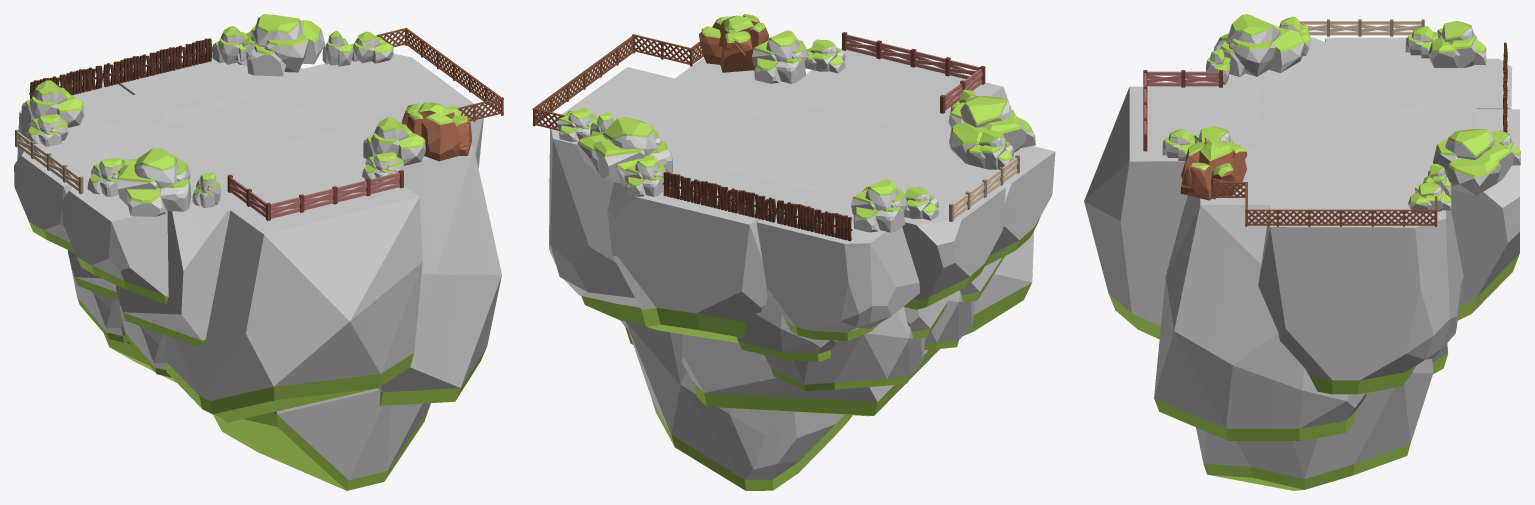
Rendered from Field.glb.
The picture shows the model from 3 angles, left to right: view 1: azimuth 30°, elevation 25°; view 2: azimuth 150°, elevation 25°; view 3: azimuth 270°, elevation 25°; orthographic projection. The views are drawn at different scales.
Visible parts, largest first — view 1: PP_Rock_Moss_Grown_11 (23), PP_Rock_Moss_Grown_11 (25), PP_Rock_Moss_Grown_11 (26), PP_Rock_Moss_Grown_11 (31), PP_Rock_Moss_Grown_11 (27), PP_Rock_Pile_Forest_Moss_10 (12), PP_Rock_Moss_Grown_11 (36), PP_Rock_Moss_Grown_11 (35), PP_Rock_Moss_Grown_11 (32), PP_Rock_Moss_Grown_11 (33), PP_Rock_Moss_Grown_11 (29), PP_Rock_Moss_Grown_11 (28) (+11 smaller); view 2: PP_Rock_Moss_Grown_11 (23), PP_Rock_Moss_Grown_11 (26), PP_Rock_Moss_Grown_11 (25), PP_Rock_Moss_Grown_11 (27), PP_Rock_Moss_Grown_11 (31), PP_Rock_Pile_Forest_Moss_10 (12), PP_Rock_Moss_Grown_11 (35), PP_Rock_Moss_Grown_11 (36), PP_Rock_Moss_Grown_11 (33), PP_Rock_Moss_Grown_11 (28), PP_Rock_Moss_Grown_11 (37), PP_Rock_Moss_Grown_11 (29) (+8 smaller); view 3: PP_Rock_Moss_Grown_11 (23), PP_Rock_Moss_Grown_11 (26), PP_Rock_Moss_Grown_11 (25), PP_Rock_Moss_Grown_11 (31), PP_Rock_Moss_Grown_11 (27), PP_Rock_Pile_Forest_Moss_10 (12), PP_Rock_Moss_Grown_11 (35), PP_Rock_Moss_Grown_11 (29), PP_Rock_Moss_Grown_11 (37), PP_Rock_Moss_Grown_11 (32), Fence Type1 02 (7), Fence Type1 02 (8) (+10 smaller).
Part boxes in pixels (left/top/right/bottom): PP_Rock_Moss_Grown_11 (23): left=104, top=54, right=501, bottom=490; PP_Rock_Moss_Grown_11 (25): left=62, top=117, right=356, bottom=377; PP_Rock_Moss_Grown_11 (26): left=14, top=84, right=280, bottom=342; PP_Rock_Moss_Grown_11 (31): left=117, top=148, right=191, bottom=216; PP_Rock_Moss_Grown_11 (27): left=236, top=14, right=325, bottom=76; PP_Rock_Pile_Forest_Moss_10 (12): left=401, top=102, right=471, bottom=161; PP_Rock_Moss_Grown_11 (36): left=363, top=117, right=425, bottom=165; PP_Rock_Moss_Grown_11 (35): left=21, top=80, right=84, bottom=127; PP_Rock_Moss_Grown_11 (32): left=26, top=114, right=68, bottom=146; PP_Rock_Moss_Grown_11 (33): left=87, top=157, right=122, bottom=196; PP_Rock_Moss_Grown_11 (29): left=350, top=31, right=393, bottom=63; PP_Rock_Moss_Grown_11 (28): left=212, top=26, right=247, bottom=64; PP_Rock_Moss_Grown_11 (23): left=549, top=48, right=1034, bottom=490; PP_Rock_Moss_Grown_11 (26): left=728, top=116, right=1005, bottom=391; PP_Rock_Moss_Grown_11 (25): left=788, top=96, right=1055, bottom=350; PP_Rock_Moss_Grown_11 (27): left=577, top=116, right=672, bottom=187; PP_Rock_Moss_Grown_11 (31): left=948, top=96, right=1035, bottom=164; PP_Rock_Pile_Forest_Moss_10 (12): left=699, top=14, right=768, bottom=72; PP_Rock_Moss_Grown_11 (35): left=851, top=179, right=907, bottom=232; PP_Rock_Moss_Grown_11 (36): left=752, top=30, right=808, bottom=83; PP_Rock_Moss_Grown_11 (33): left=966, top=130, right=1013, bottom=169; PP_Rock_Moss_Grown_11 (28): left=624, top=155, right=665, bottom=196; PP_Rock_Moss_Grown_11 (37): left=805, top=39, right=845, bottom=73; PP_Rock_Moss_Grown_11 (29): left=557, top=107, right=597, bottom=141; PP_Rock_Moss_Grown_11 (23): left=1084, top=86, right=1519, bottom=490; PP_Rock_Moss_Grown_11 (26): left=1289, top=37, right=1512, bottom=147; PP_Rock_Moss_Grown_11 (25): left=1194, top=37, right=1417, bottom=147; PP_Rock_Moss_Grown_11 (31): left=1213, top=14, right=1305, bottom=76; PP_Rock_Moss_Grown_11 (27): left=1433, top=129, right=1514, bottom=195; PP_Rock_Pile_Forest_Moss_10 (12): left=1180, top=136, right=1247, bottom=200; PP_Rock_Moss_Grown_11 (35): left=1428, top=21, right=1486, bottom=67; PP_Rock_Moss_Grown_11 (29): left=1408, top=182, right=1451, bottom=212; PP_Rock_Moss_Grown_11 (37): left=1162, top=129, right=1194, bottom=160; PP_Rock_Moss_Grown_11 (32): left=1405, top=26, right=1437, bottom=58; Fence Type1 02 (7): left=1143, top=70, right=1184, bottom=87; Fence Type1 02 (8): left=1181, top=70, right=1222, bottom=87.
Size of the model in its own units: 144 by 126 by 138.
4 materials, 4 textured.
